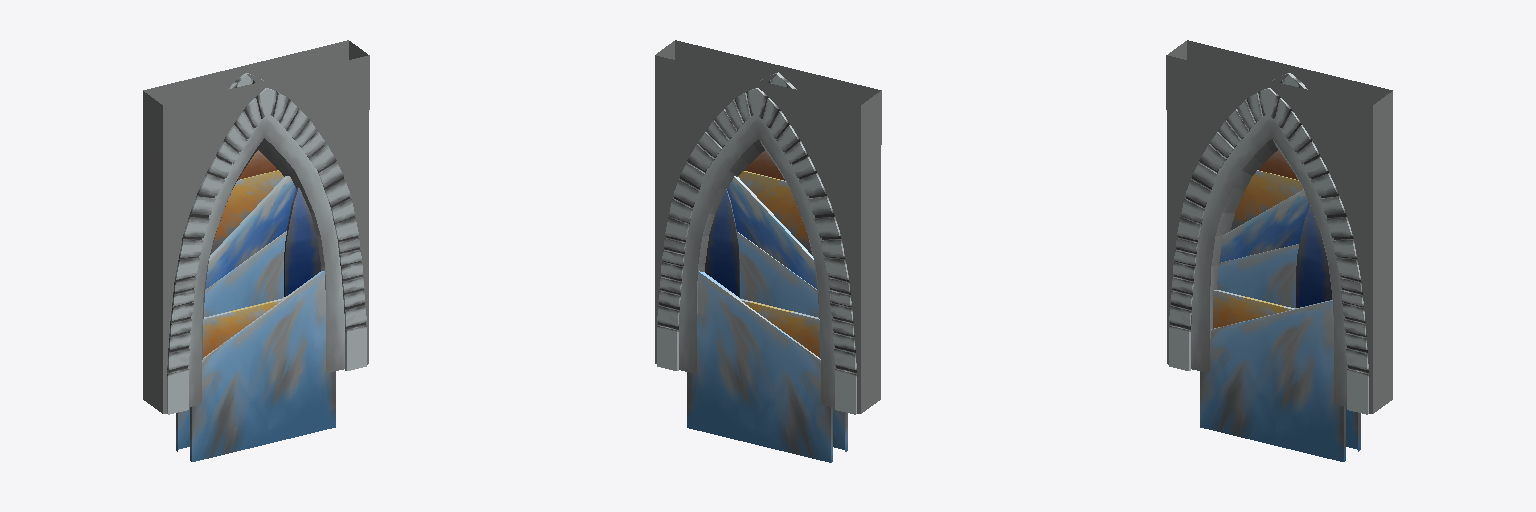
The picture shows the model from 3 angles: view 1: azimuth 30°, elevation 25°; view 2: azimuth 150°, elevation 25°; view 3: azimuth 330°, elevation 25°; orthographic projection.
Parts seen in each view (by area): view 1: Wall4, Sliding_parts_pCube20 Sliding_Parts, Back_Bricks3, Doorframe5, Sliding_Parts Sliding_parts_pCube19, Sliding_Parts Sliding_parts_pCube23, Sliding_Parts Sliding_parts_pCube17, Sliding_Parts Sliding_parts_pCube14, Sliding_Parts Sliding_parts_pCube22, Sliding_Parts Sliding_parts_pCube12; view 2: Wall4, Sliding_parts_pCube20 Sliding_Parts, Back_Bricks4, Doorframe5, Sliding_Parts Sliding_parts_pCube19, Sliding_Parts Sliding_parts_pCube23, Sliding_Parts Sliding_parts_pCube17, Sliding_Parts Sliding_parts_pCube14, Sliding_Parts Sliding_parts_pCube22, Sliding_Parts Sliding_parts_pCube12; view 3: Wall4, Sliding_parts_pCube20 Sliding_Parts, Back_Bricks3, Doorframe5, Sliding_Parts Sliding_parts_pCube19, Sliding_Parts Sliding_parts_pCube23, Sliding_Parts Sliding_parts_pCube17, Sliding_Parts Sliding_parts_pCube14, Sliding_Parts Sliding_parts_pCube22, Sliding_Parts Sliding_parts_pCube12.
Boxes of the visible parts, x1,y1,x2,y2 form: Wall4: [143, 40, 369, 413]; Sliding_parts_pCube20 Sliding_Parts: [176, 271, 335, 461]; Back_Bricks3: [167, 88, 366, 414]; Doorframe5: [188, 113, 344, 406]; Sliding_Parts Sliding_parts_pCube19: [204, 231, 286, 316]; Sliding_Parts Sliding_parts_pCube23: [205, 176, 295, 289]; Sliding_Parts Sliding_parts_pCube17: [284, 187, 320, 296]; Sliding_Parts Sliding_parts_pCube14: [211, 170, 283, 253]; Sliding_Parts Sliding_parts_pCube22: [203, 299, 281, 357]; Sliding_Parts Sliding_parts_pCube12: [238, 150, 276, 179]; Wall4: [655, 40, 881, 413]; Sliding_parts_pCube20 Sliding_Parts: [687, 271, 847, 462]; Back_Bricks4: [657, 88, 856, 414]; Doorframe5: [679, 113, 835, 407]; Sliding_Parts Sliding_parts_pCube19: [737, 232, 818, 317]; Sliding_Parts Sliding_parts_pCube23: [727, 176, 817, 289]; Sliding_Parts Sliding_parts_pCube17: [705, 189, 739, 297]; Sliding_Parts Sliding_parts_pCube14: [738, 171, 812, 255]; Sliding_Parts Sliding_parts_pCube22: [741, 299, 819, 357]; Sliding_Parts Sliding_parts_pCube12: [745, 151, 784, 180]; Wall4: [1166, 40, 1392, 413]; Sliding_parts_pCube20 Sliding_Parts: [1200, 300, 1360, 461]; Back_Bricks3: [1169, 88, 1368, 414]; Doorframe5: [1191, 113, 1347, 406]; Sliding_Parts Sliding_parts_pCube19: [1217, 244, 1298, 307]; Sliding_Parts Sliding_parts_pCube23: [1219, 189, 1309, 262]; Sliding_Parts Sliding_parts_pCube17: [1296, 206, 1331, 307]; Sliding_Parts Sliding_parts_pCube14: [1230, 170, 1302, 230]; Sliding_Parts Sliding_parts_pCube22: [1213, 290, 1294, 328]; Sliding_Parts Sliding_parts_pCube12: [1259, 150, 1297, 179].
Bounding box in the file's own units: 2162 × 3670 × 423.
1 materials, 1 textured.